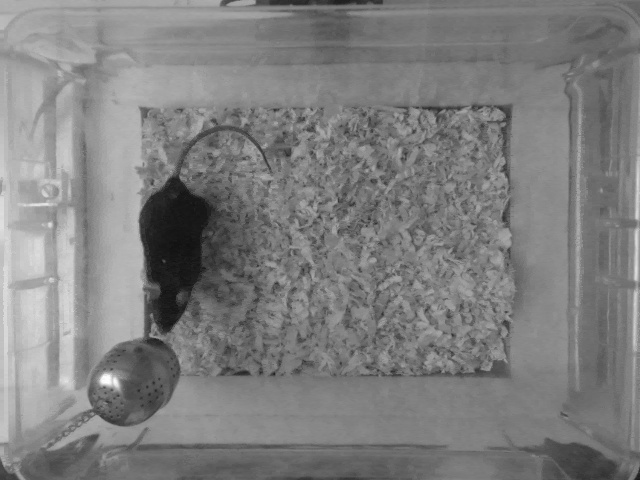mice: (137, 125, 276, 335)
